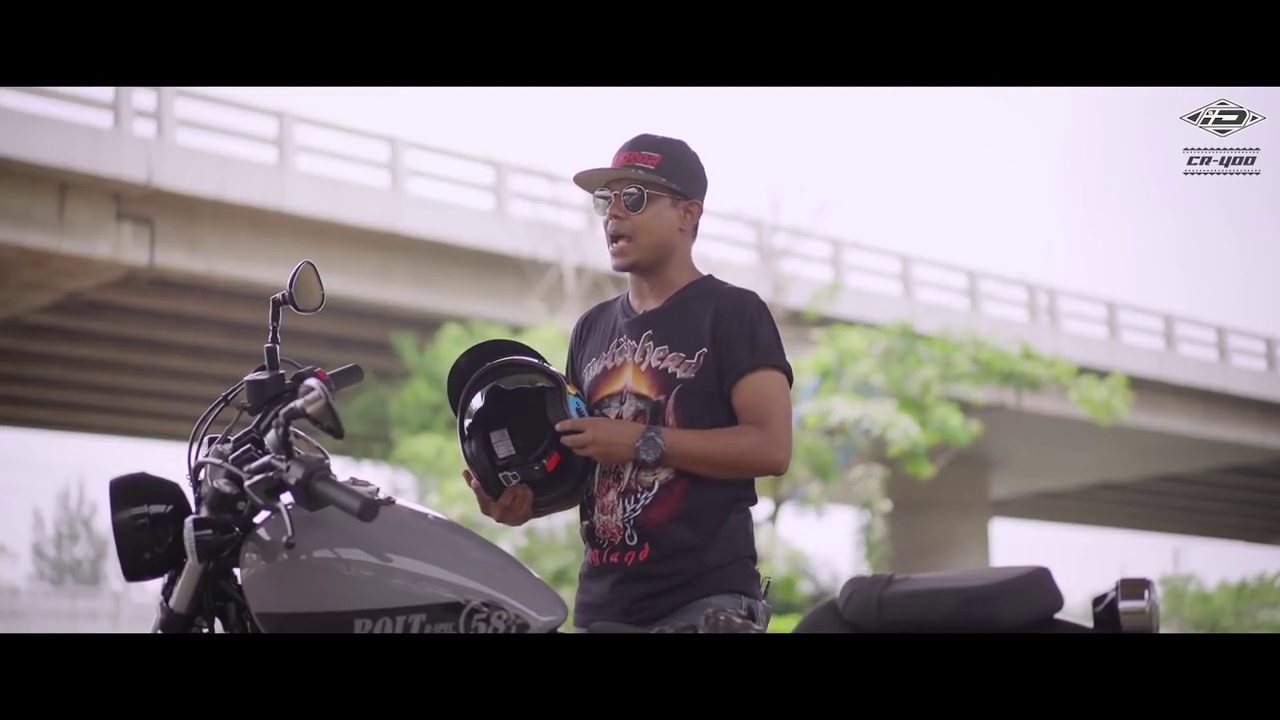helmet: (438, 340, 599, 513)
